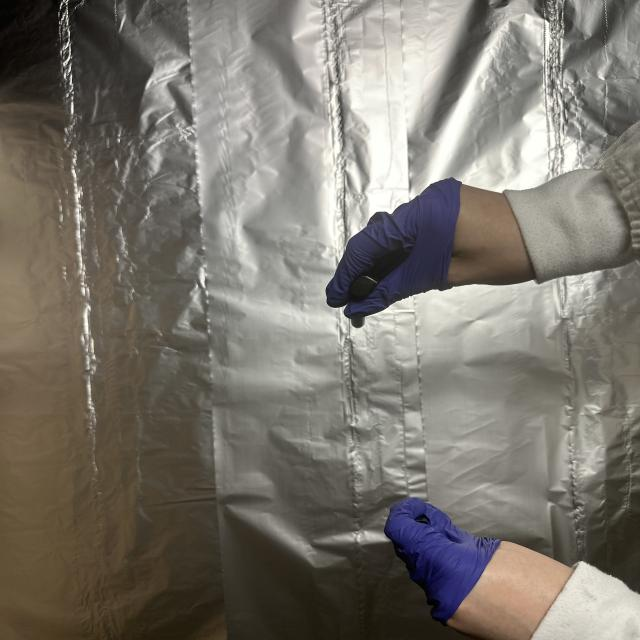glove_partial: (325, 176, 546, 328), (378, 496, 590, 640)
